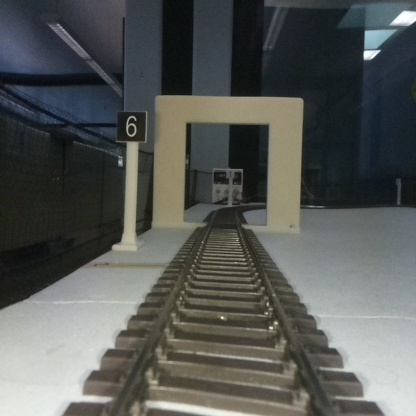black-info-6: (117, 111, 146, 249)
white-info-1: (225, 168, 234, 206)
